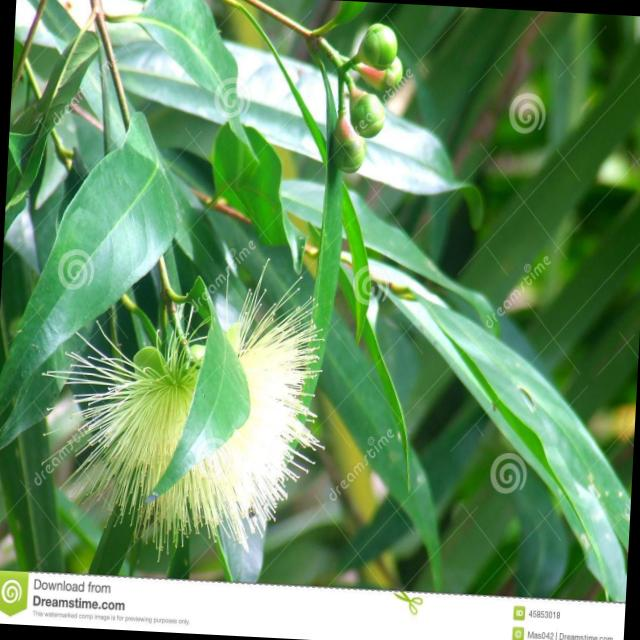Medicinal-Rose Apple: (62, 259, 640, 605), (5, 0, 462, 245)
